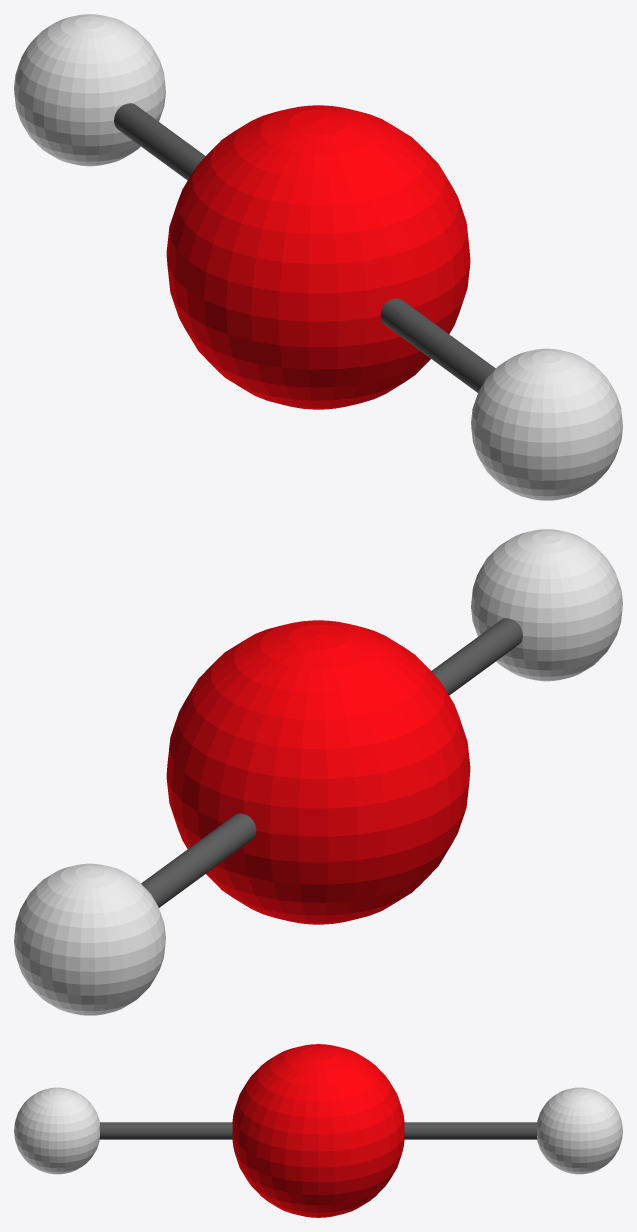
The model's file is HydrogenStr.fbx.
The picture shows the model from 3 angles, top to bottom: view 1: azimuth 30°, elevation 25°; view 2: azimuth 150°, elevation 25°; view 3: azimuth 270°, elevation 25°; orthographic projection. The views are drawn at different scales.
Visible parts, largest first — view 1: Sphere, H2, H1, C3, C2; view 2: Sphere, H1, H2, C2, C3; view 3: Sphere, H1, H2, C2, C3.
Part boxes in pixels (box(x1,y1,x2,y2)): Sphere: box(166, 105, 470, 409); H2: box(471, 348, 622, 500); H1: box(14, 14, 165, 166); C3: box(380, 298, 495, 392); C2: box(114, 103, 205, 180); Sphere: box(166, 620, 470, 924); H1: box(14, 863, 165, 1015); H2: box(471, 529, 622, 681); C2: box(141, 813, 256, 907); C3: box(431, 618, 522, 695); Sphere: box(232, 1044, 404, 1217); H1: box(537, 1087, 622, 1174); H2: box(14, 1087, 99, 1174); C2: box(404, 1122, 537, 1139); C3: box(99, 1122, 232, 1139).
Size of the model in its own units: 20 by 20 by 70.
